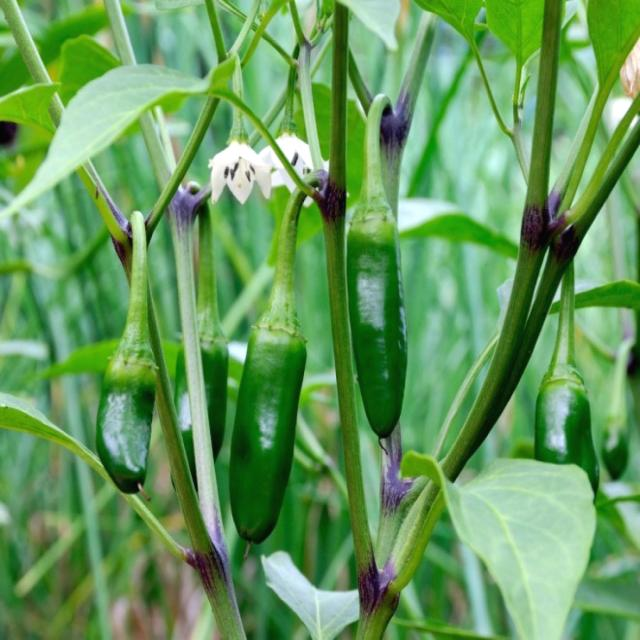Chili Pepper: (321, 167, 441, 470), (220, 296, 318, 556), (522, 280, 598, 550), (94, 248, 164, 510), (163, 280, 225, 492), (604, 422, 630, 477)
